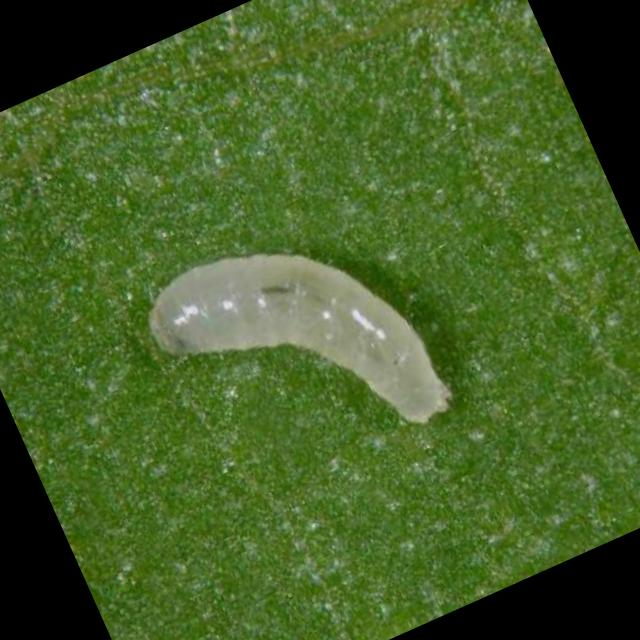whorl-maggot: (127, 185, 467, 514)
